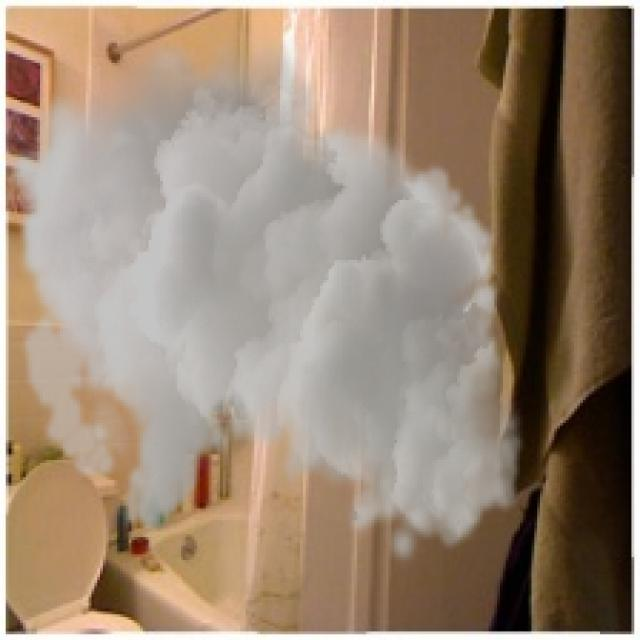smoke: (6, 23, 526, 568)
